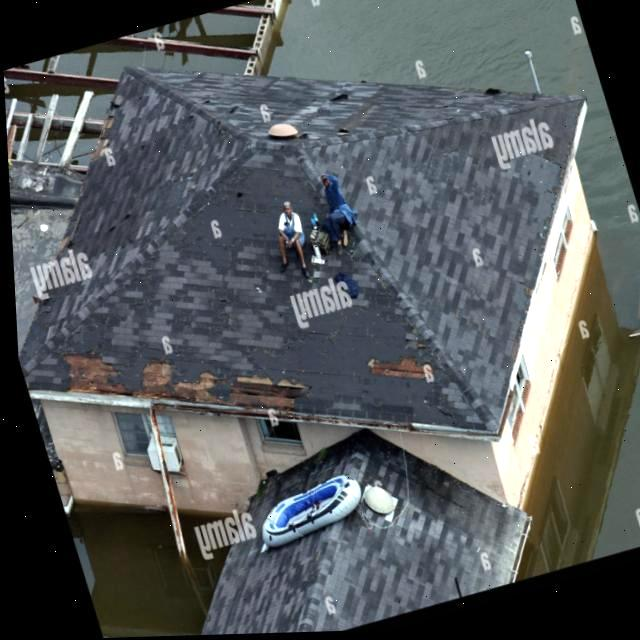civilian: (316, 171, 349, 250), (276, 196, 306, 264)
